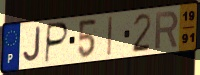2: (131, 13, 152, 54)
5: (77, 17, 99, 60)
I: (107, 16, 114, 57)
J: (22, 25, 42, 64)
P: (43, 21, 70, 65)
R: (154, 10, 180, 52)
